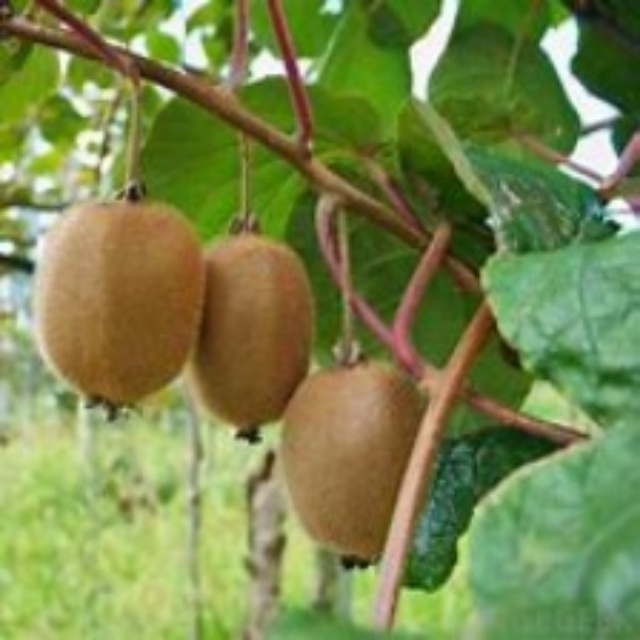kiwi: (38, 186, 201, 415), (283, 361, 428, 576), (185, 235, 316, 439)
